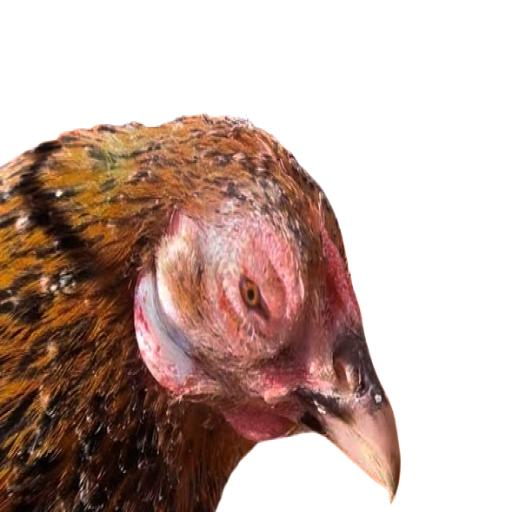disease: (213, 192, 304, 373)
